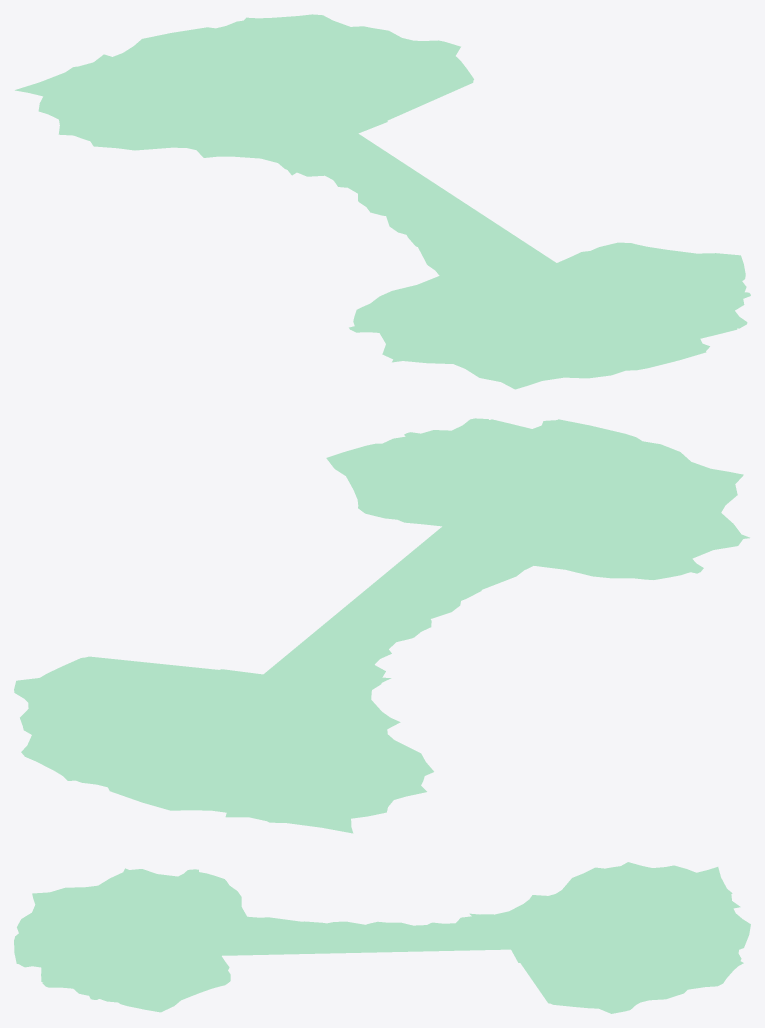
The model's file is path_06.fbx.
3 renders of one model, top to bottom at view 1: azimuth 30°, elevation 25°; view 2: azimuth 150°, elevation 25°; view 3: azimuth 270°, elevation 25°, orthographic. The views are drawn at different scales.
Parts seen in each view (by area): view 1: path_06; view 2: path_06; view 3: path_06.
Boxes of the visible parts, x1=… form: path_06: x1=15, y1=14, x2=750, y2=389; path_06: x1=14, y1=418, x2=749, y2=833; path_06: x1=14, y1=862, x2=750, y2=1013.
Size of the model in its own units: 4497 by 0.000153 by 9216.
